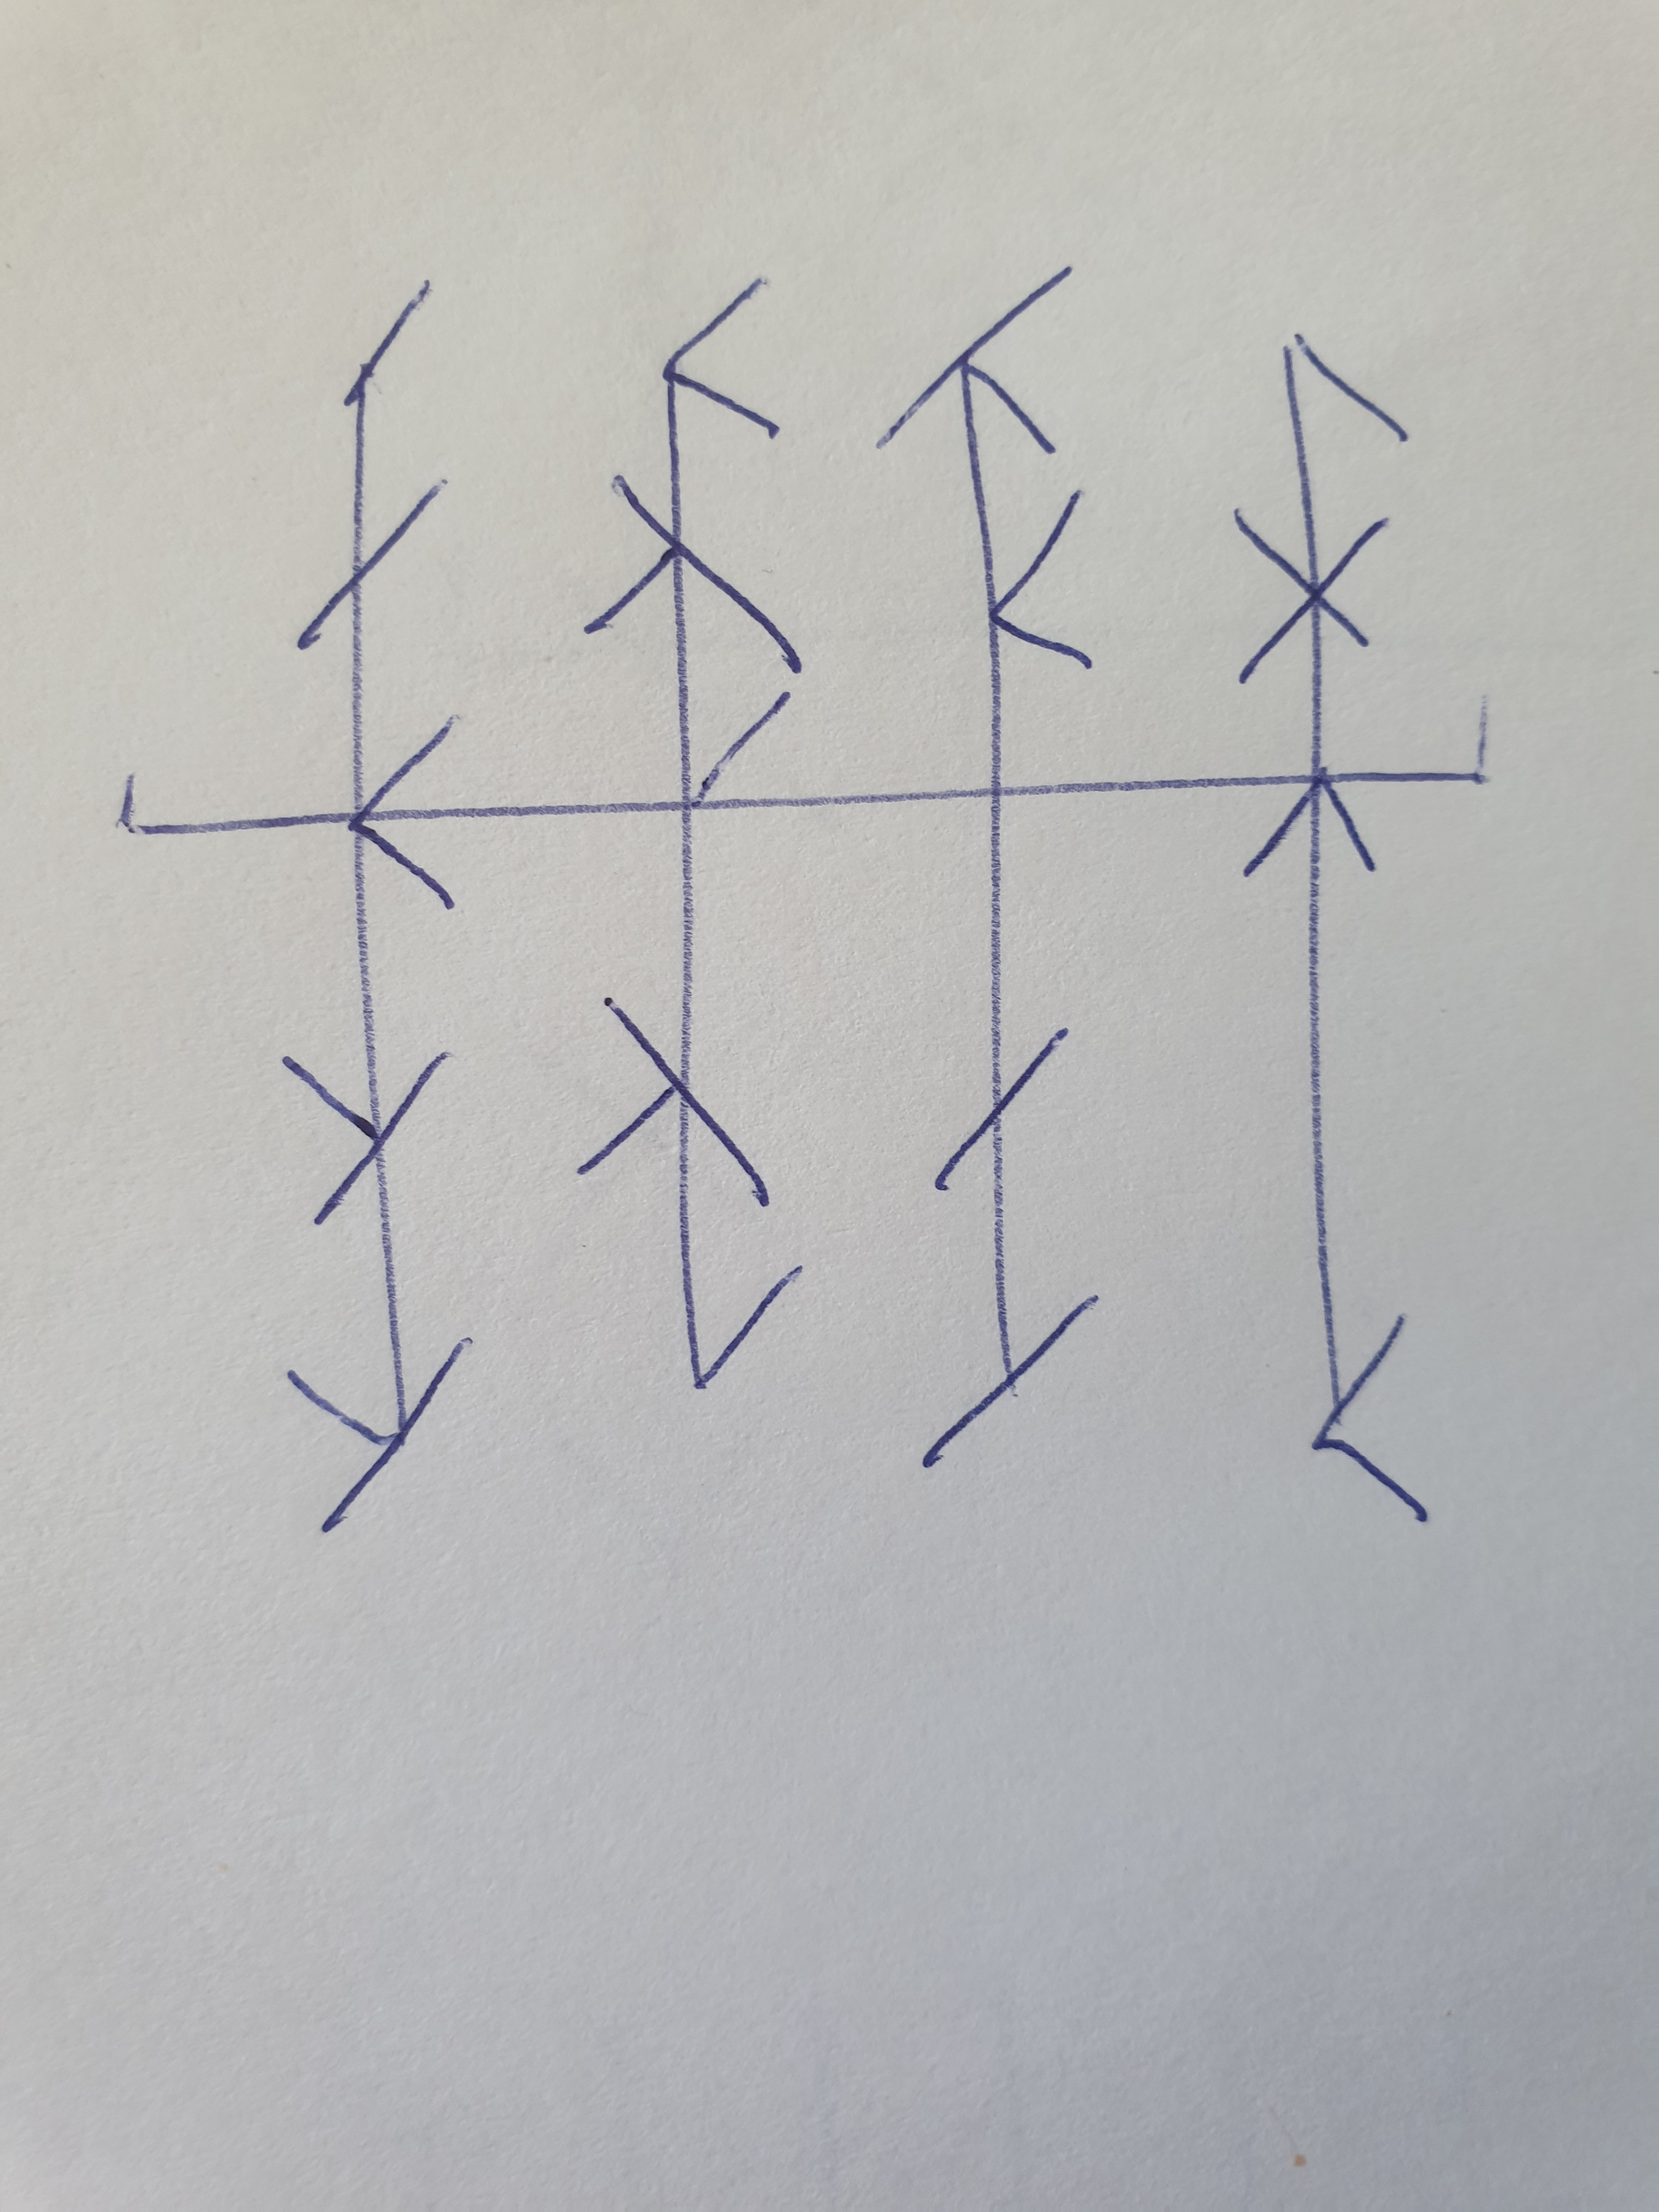Bar: (875, 265, 1098, 1470), (577, 280, 803, 1388), (284, 282, 472, 1529), (1234, 331, 1431, 1522)
Barcode: (117, 265, 1493, 1538)
End: (1331, 695, 1495, 786)
Start: (119, 763, 350, 840)
